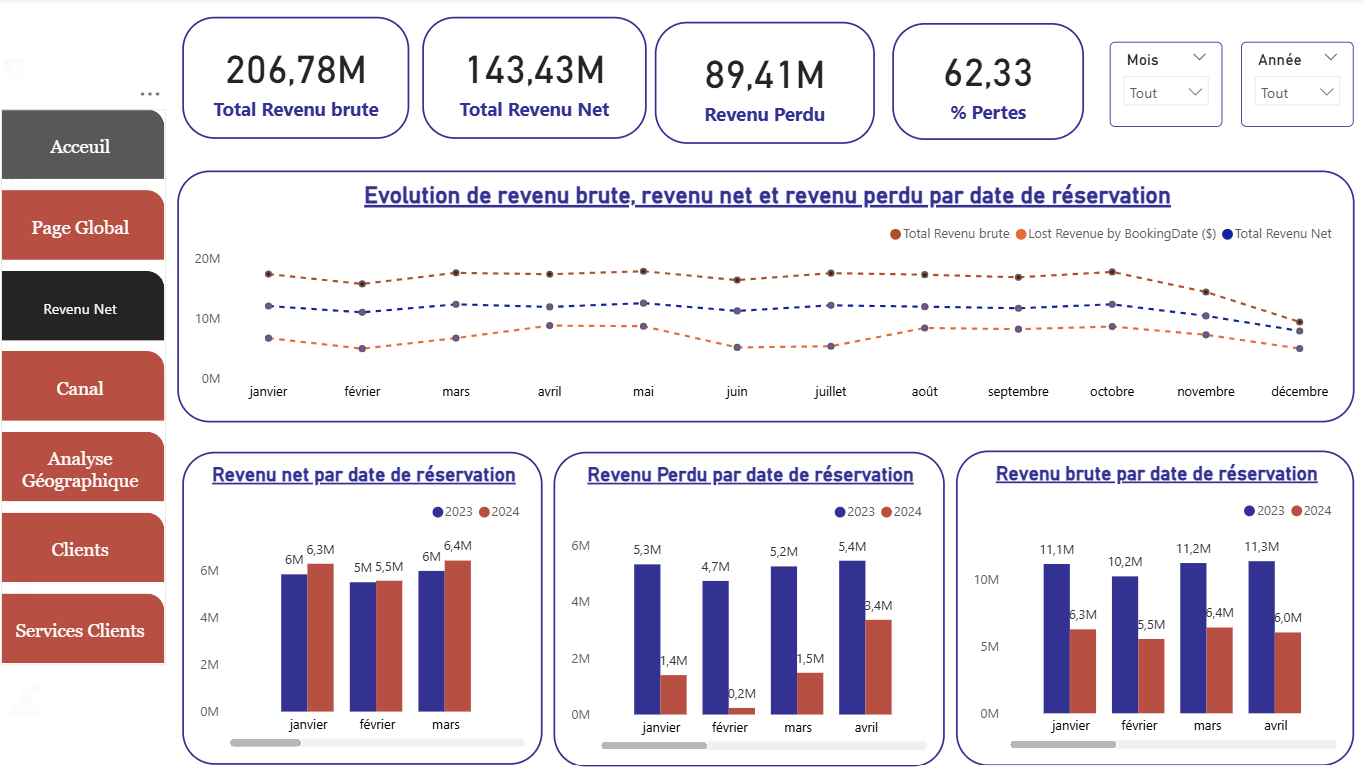

The page's visual inventory and layout, read from the dashboard file:
{"tool":"powerbi","page":{"name":"Revenu Net","canvas":[1280,720],"ordinal":2},"visuals":[{"type":"areaChart","title":"Evolution de revenu brute, revenu net et revenu perdu par date de réservation","fields":{"Category":["DimDate.Date.Variation.Hiérarchie de dates.Mois"],"Y":["Fact_Reservation.Revenu brute","Fact_Reservation.Lost Revenue by BookingDate ($)","Fact_Reservation.Total Revenu Net"]},"box":[172.9,160.5,1095,234.6],"z":0},{"type":"clusteredColumnChart","title":"Revenu net par date de réservation","fields":{"Category":["DimDate.Date.Variation.Hiérarchie de dates.Année","DimDate.Date.Variation.Hiérarchie de dates.Mois"],"Y":["Fact_Reservation.Total Revenu Net"],"Series":["DimDate.Date.Variation.Hiérarchie de dates.Année"]},"box":[178.4,422.6,334.8,290.9],"z":1000},{"type":"clusteredColumnChart","title":"Revenu Perdu par date de réservation","fields":{"Y":["Fact_Reservation.Lost Revenue by BookingDate ($)"],"Series":["DimDate.Date.Variation.Hiérarchie de dates.Année"],"Category":["DimDate.Date.Variation.Hiérarchie de dates.Année","DimDate.Date.Variation.Hiérarchie de dates.Mois"]},"box":[522.8,422.6,363.6,293.7],"z":2000},{"type":"clusteredColumnChart","title":"Revenu brute par date de réservation","fields":{"Y":["Fact_Reservation.Revenu brute"],"Series":["DimDate.Date.Variation.Hiérarchie de dates.Année"],"Category":["DimDate.Date.Variation.Hiérarchie de dates.Année","DimDate.Date.Variation.Hiérarchie de dates.Mois"]},"box":[897.4,421.3,370.5,293.7],"z":3000},{"type":"card","fields":{"Values":["Fact_Reservation.Revenu Brut"]},"box":[400.7,17.8,208.6,113.9],"z":4000},{"type":"card","fields":{"Values":["Fact_Reservation.Revenu Perdu"]},"box":[617.5,22,204.5,113.9],"z":5000},{"type":"card","fields":{"Values":["Fact_Reservation.Revenu brute"]},"box":[178.4,17.8,211.3,113.9],"z":6000},{"type":"card","fields":{"Values":["Fact_Reservation.% Pertes"]},"box":[838.4,23.3,178.4,108.4],"z":7000},{"type":"image","box":[0,30.6,44,73.4],"z":8000},{"type":"image","box":[0,122.3,56.3,108.8],"z":9000},{"type":"image","box":[0,231.1,56.3,75.8],"z":10000},{"type":"image","box":[0,323.4,55.8,88.3],"z":11000},{"type":"image","box":[0,395,56.3,110.1],"z":12000},{"type":"image","box":[0,509.9,64.8,116.2],"z":13000},{"type":"image","box":[0,615.1,64.8,99],"z":14000},{"type":"slicer","fields":{"Values":["DimDate.Date.Variation.Hiérarchie de dates.Mois"]},"box":[1040.3,40.3,105.2,79.2],"z":15000},{"type":"slicer","fields":{"Values":["DimDate.Date.Variation.Hiérarchie de dates.Année"]},"box":[1162.3,40.3,105.2,79.2],"z":16000},{"type":"pageNavigator","box":[9.8,103.9,152.9,517.3],"z":17000}]}

Visuals, with their boxes on the page's 1280x720 design canvas (x1, y1, x2, y2). These are canvas units, not pixel positions in the 1363x767 screenshot, which may show the page scaled, cropped or inside an application window:
"Evolution de revenu brute, revenu net et revenu perdu par date de réservation" areaChart: bbox(173, 160, 1268, 395)
"Revenu net par date de réservation" clusteredColumnChart: bbox(178, 423, 513, 714)
"Revenu Perdu par date de réservation" clusteredColumnChart: bbox(523, 423, 886, 716)
"Revenu brute par date de réservation" clusteredColumnChart: bbox(897, 421, 1268, 715)
card - Fact_Reservation.Revenu Brut: bbox(401, 18, 609, 132)
card - Fact_Reservation.Revenu Perdu: bbox(618, 22, 822, 136)
card - Fact_Reservation.Revenu brute: bbox(178, 18, 390, 132)
card - Fact_Reservation.% Pertes: bbox(838, 23, 1017, 132)
image: bbox(0, 31, 44, 104)
image: bbox(0, 122, 56, 231)
image: bbox(0, 231, 56, 307)
image: bbox(0, 323, 56, 412)
image: bbox(0, 395, 56, 505)
image: bbox(0, 510, 65, 626)
image: bbox(0, 615, 65, 714)
slicer - DimDate.Date.Variation.Hiérarchie de dates.Mois: bbox(1040, 40, 1146, 120)
slicer - DimDate.Date.Variation.Hiérarchie de dates.Année: bbox(1162, 40, 1268, 120)
pageNavigator: bbox(10, 104, 163, 621)
